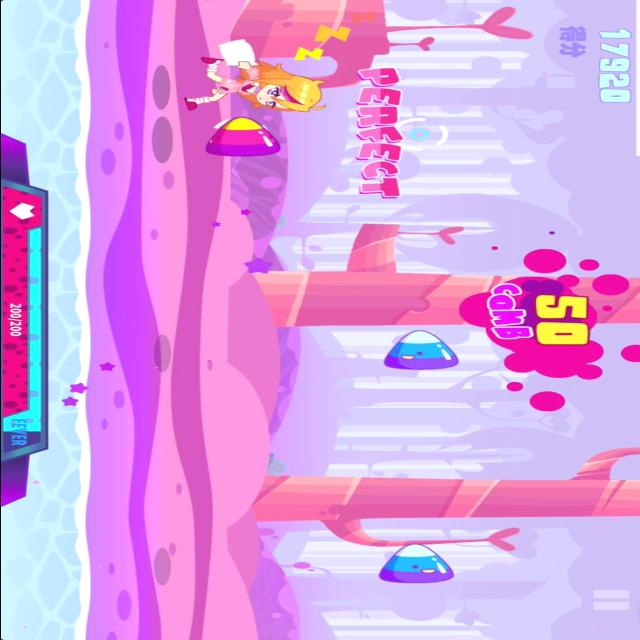jian: (372, 540, 462, 586), (198, 114, 286, 160), (376, 329, 464, 373)
